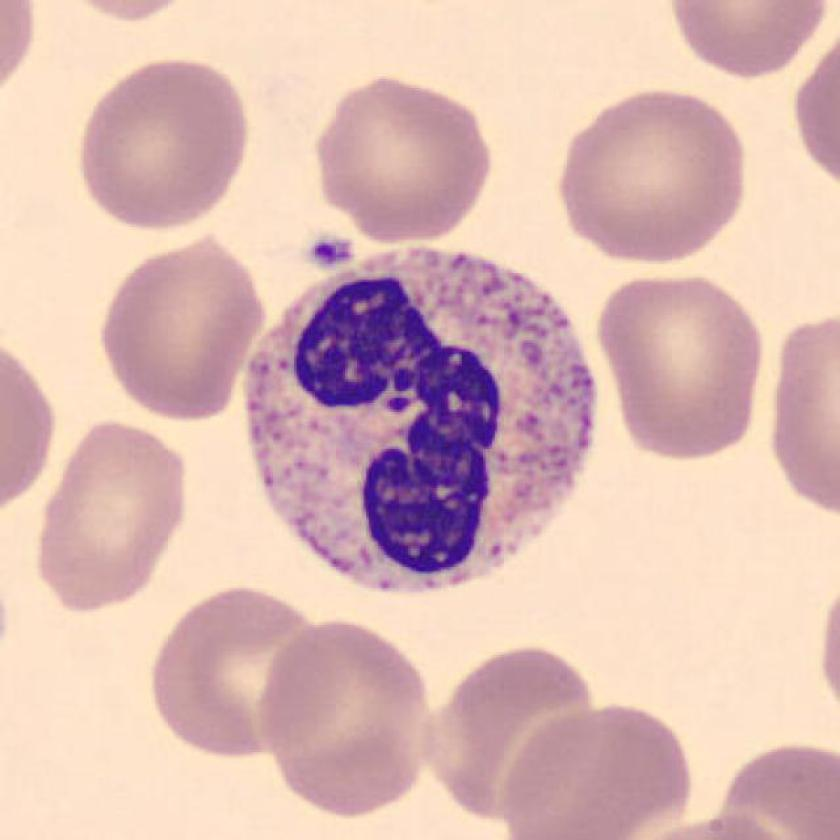neutrophil: (245, 248, 596, 594)
